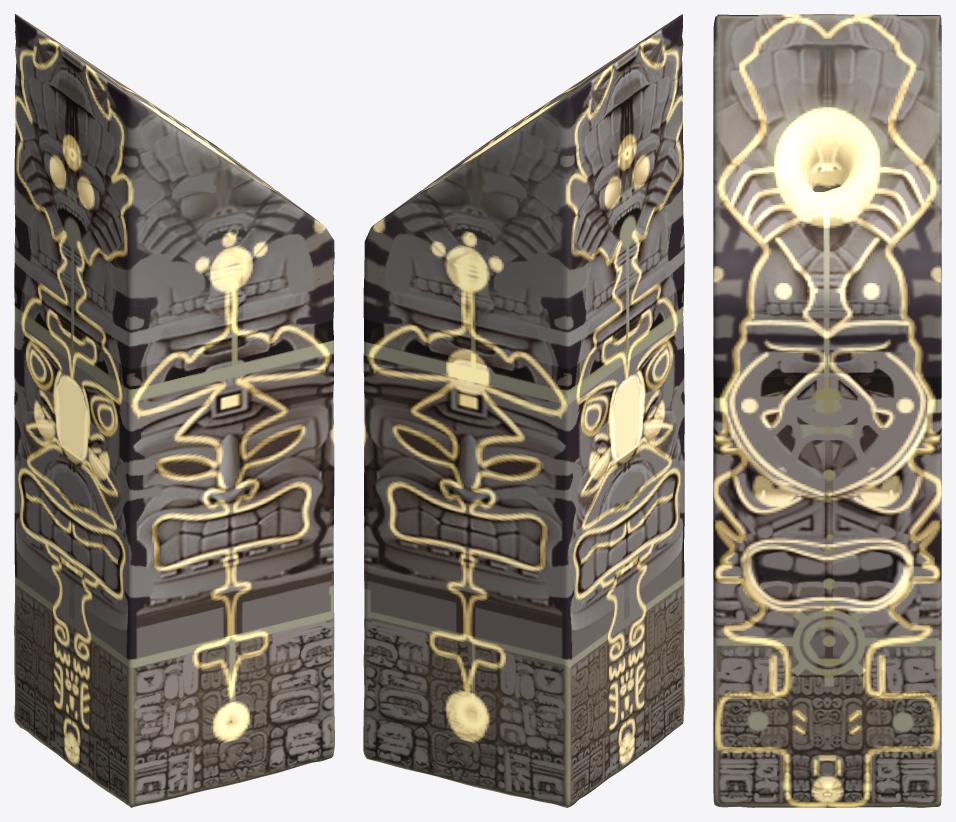
The model's file is genshtab.glb.
3 renders of one model, left to right at view 1: azimuth 30°, elevation 25°; view 2: azimuth 150°, elevation 25°; view 3: azimuth 270°, elevation 25°, orthographic. The views are drawn at different scales.
Visible parts, largest first — view 1: Group36387; view 2: Group36387; view 3: Group36387.
Boxes of the visible parts, bbox=[...] form: Group36387: bbox=[14, 14, 334, 807]; Group36387: bbox=[363, 14, 684, 807]; Group36387: bbox=[713, 14, 941, 807].
Size of the model in its own units: 1.21 by 4 by 1.19.
Materials: 1 (1 with a texture image).
